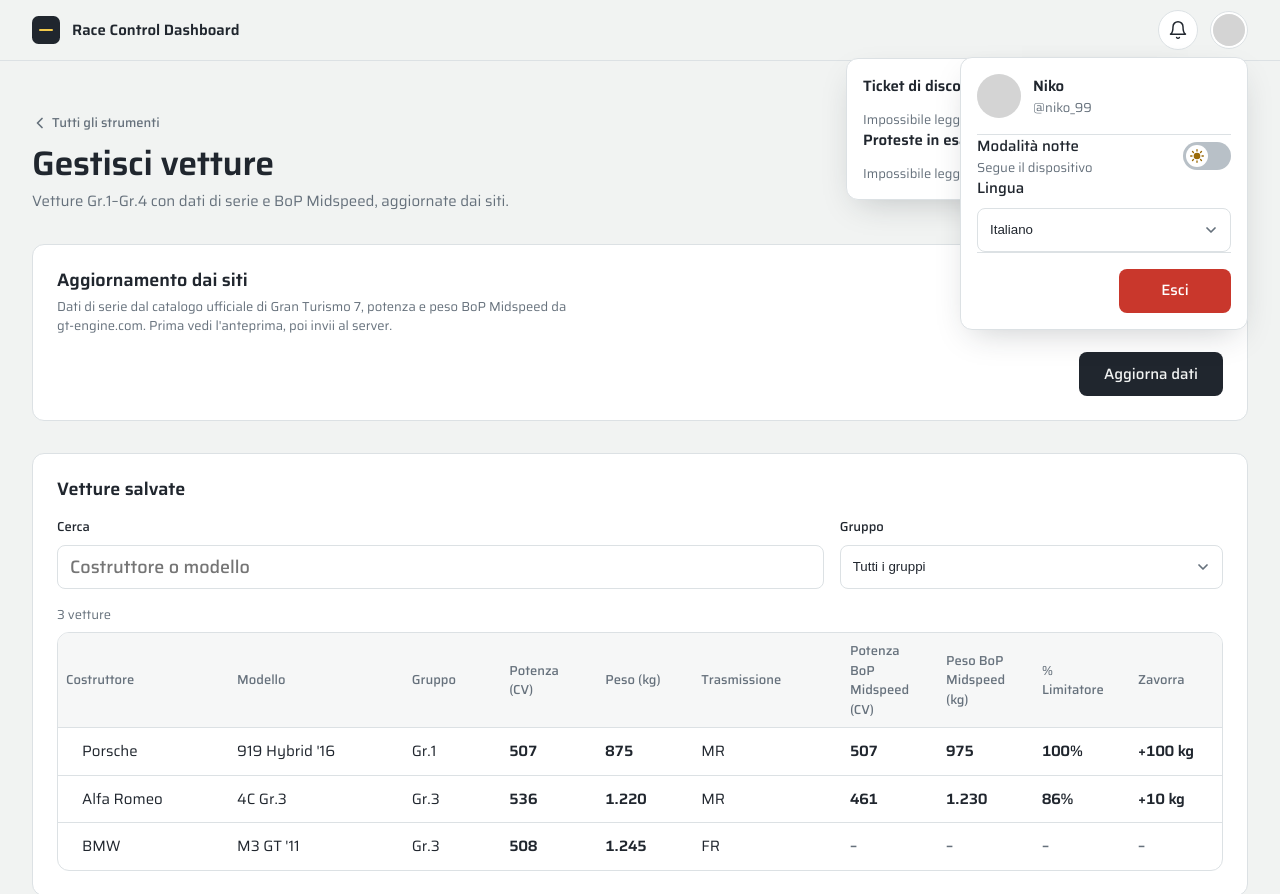
Test case: Gestisci vetture › Aggiorna dati mostra l'anteprima; un abbinamento a mano ricalcola l'anteprima; Invia al server salva dopo la conferma
Click the button "Aggiorna dati" at (1151, 374), box top-left (1079, 352), bottom-right (1223, 396)
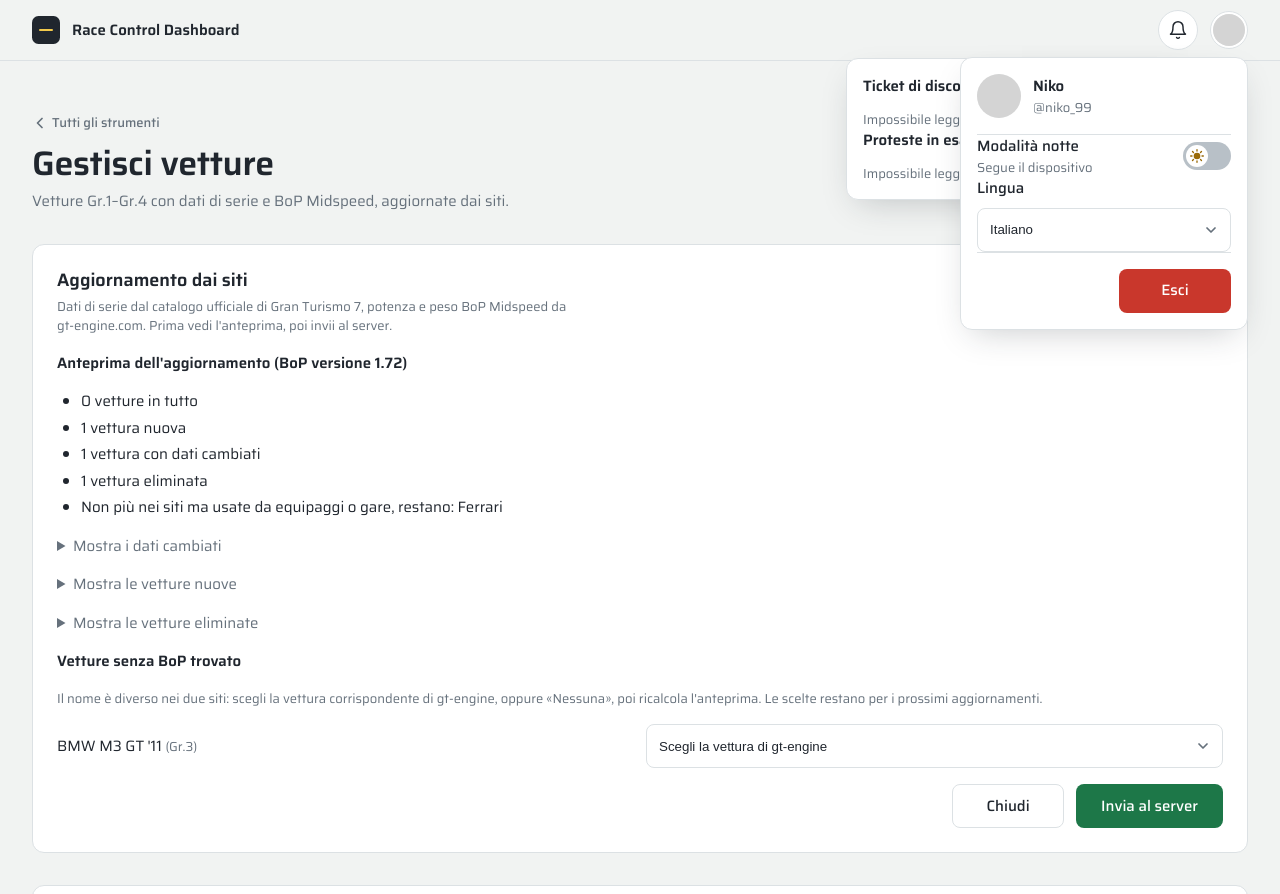
Expected: the text "Anteprima dell'aggiornamento (BoP versione 1.72)" is shown, top-left (57, 351), bottom-right (407, 375)
Expected: the list item "1 vettura nuova" is shown, top-left (81, 416), bottom-right (186, 440)
Expected: the list item "Non più nei siti ma usate da equipaggi o gare, restano: Ferrari" is shown, top-left (81, 495), bottom-right (503, 519)
Select "BMW M3 GT3 '11" in the dropdown named "Vettura di gt-engine per BMW M3 GT '11" at (934, 746), box top-left (646, 724), bottom-right (1223, 768)
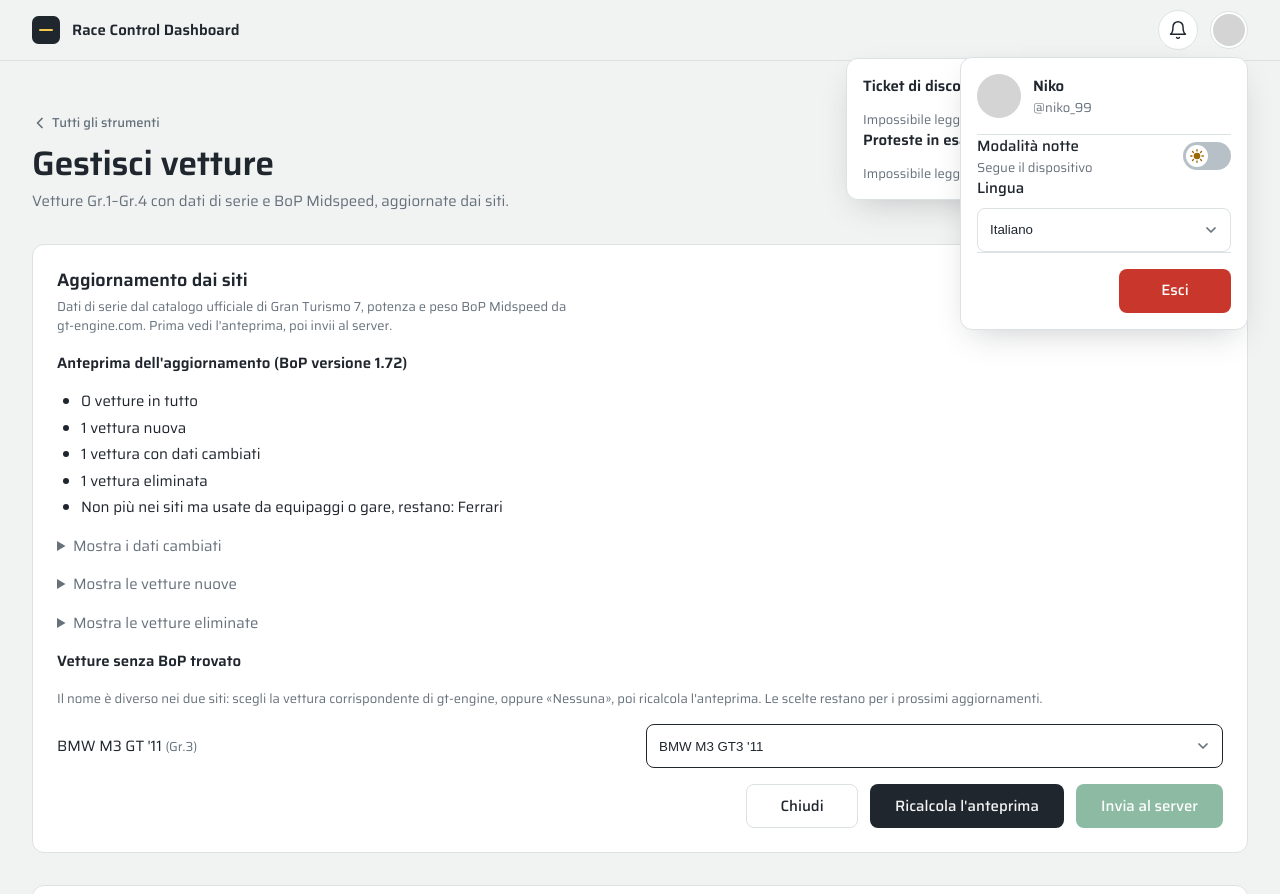
Expected: the button "Invia al server" is disabled, top-left (1076, 784), bottom-right (1223, 828)
Click the button "Ricalcola l'anteprima" at (967, 806), box top-left (870, 784), bottom-right (1064, 828)
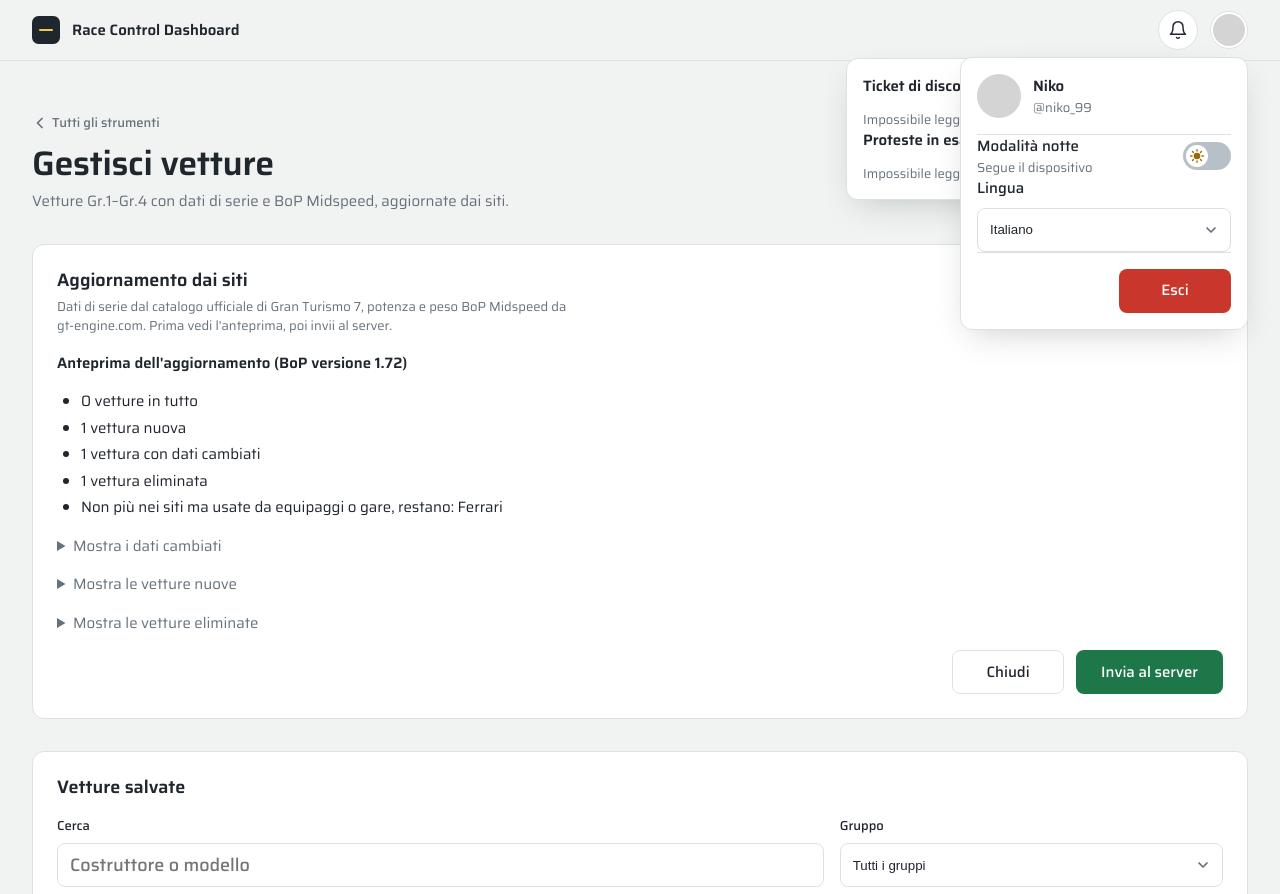
Click the button "Invia al server" at (1150, 672), box top-left (1076, 650), bottom-right (1223, 694)
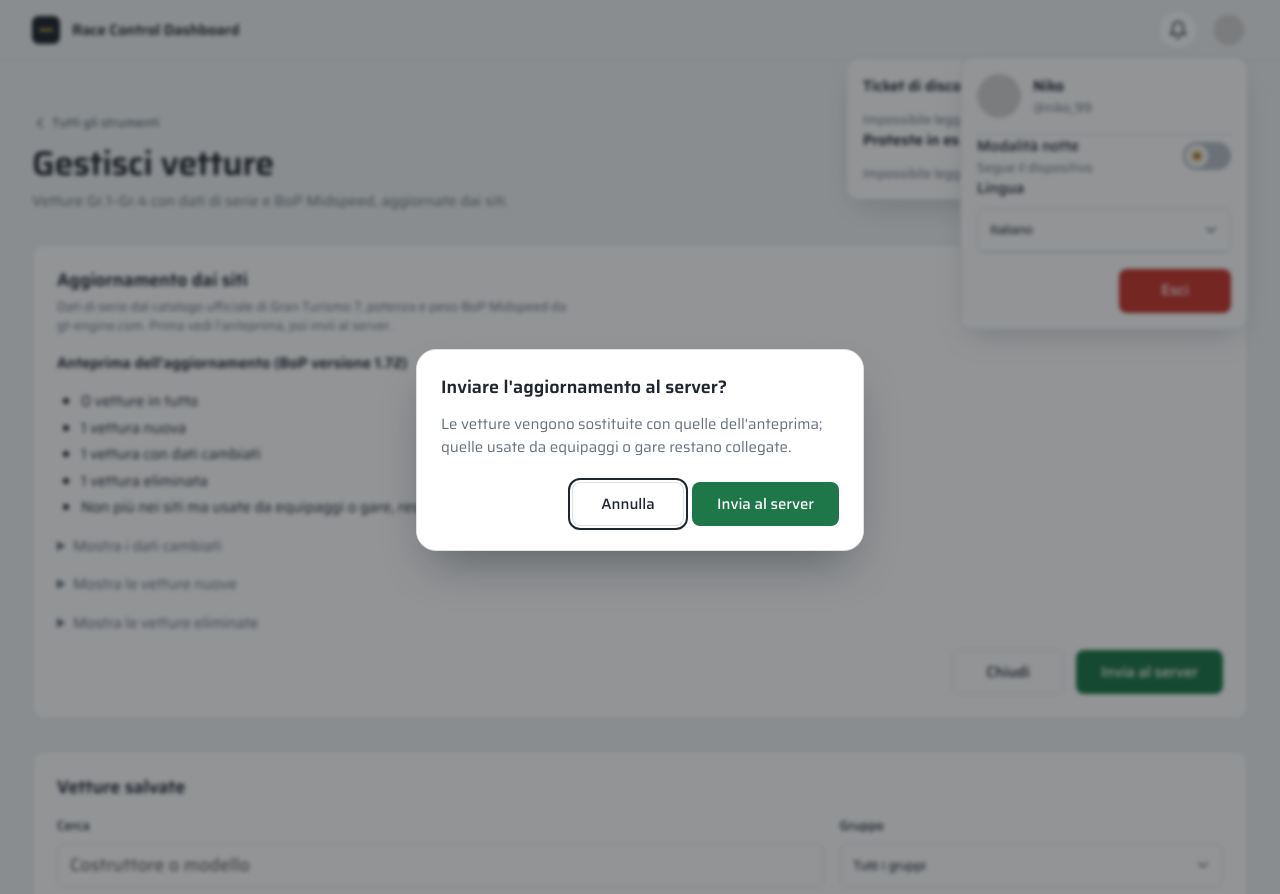
Click the button "Invia al server" at (766, 504), box top-left (692, 482), bottom-right (839, 526)
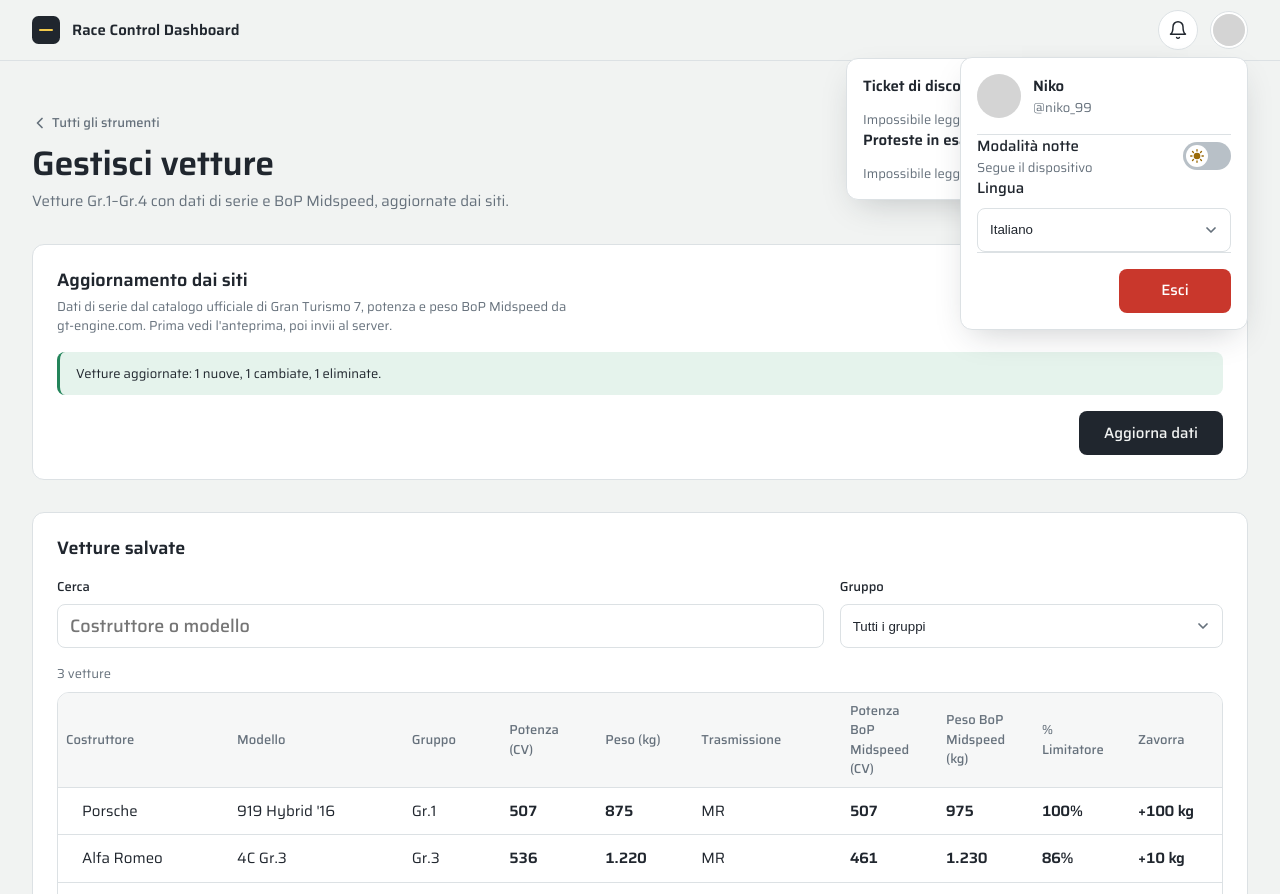
Expected: the text "Vetture aggiornate: 1 nuove, 1 cambiate, 1 eliminate." is shown, top-left (57, 352), bottom-right (1223, 395)
